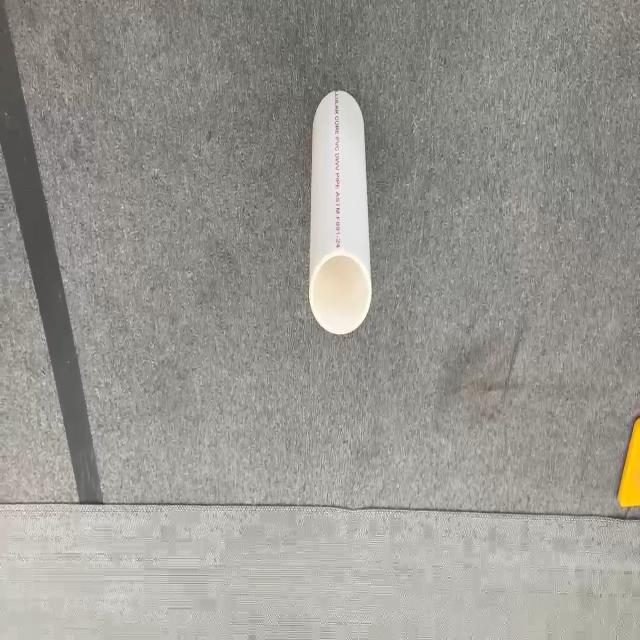coral: (308, 88, 372, 335)
